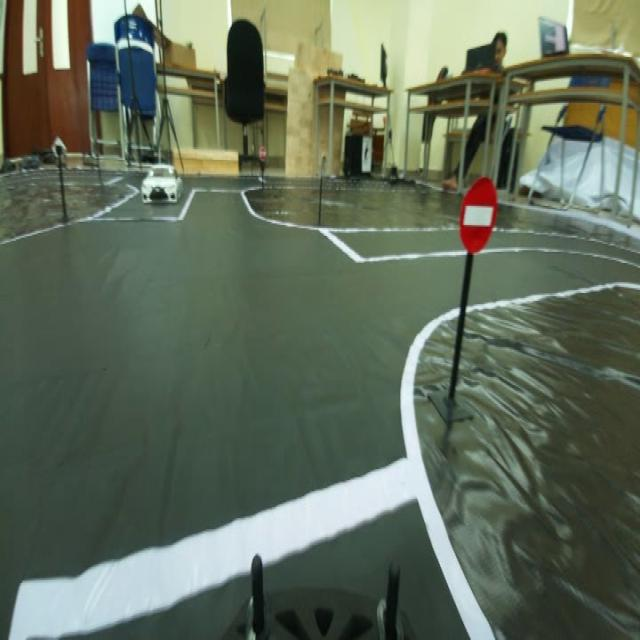car: (138, 150, 184, 208)
no_entry: (453, 166, 504, 264)
